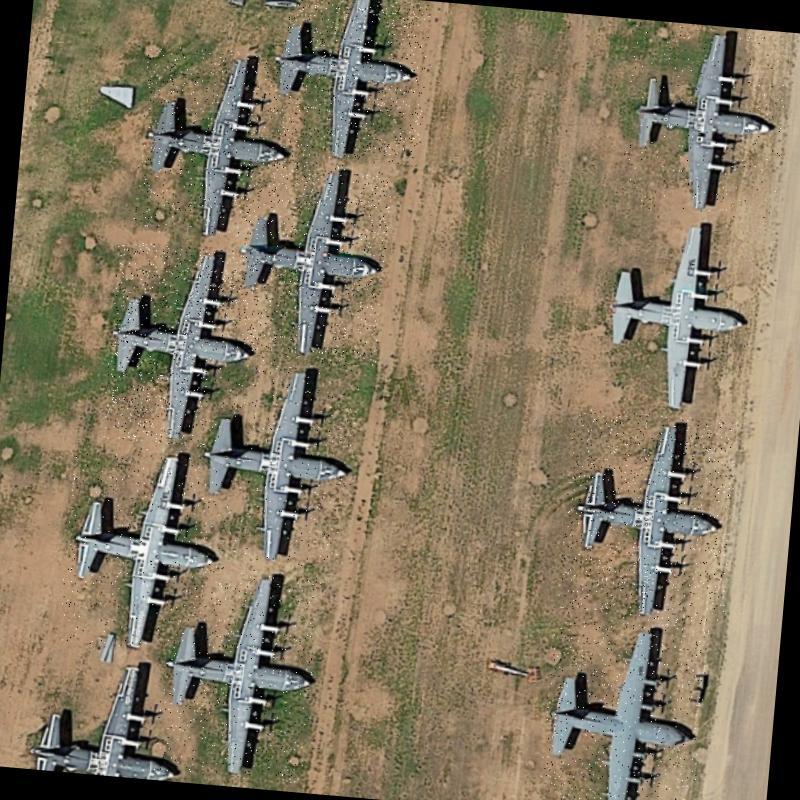A2: (557, 407, 740, 627), (154, 563, 322, 784), (590, 212, 764, 422), (196, 350, 361, 569), (58, 442, 226, 654), (228, 156, 393, 366), (133, 44, 304, 244), (102, 241, 264, 451), (620, 22, 790, 221), (537, 614, 709, 800), (272, 0, 433, 166)
